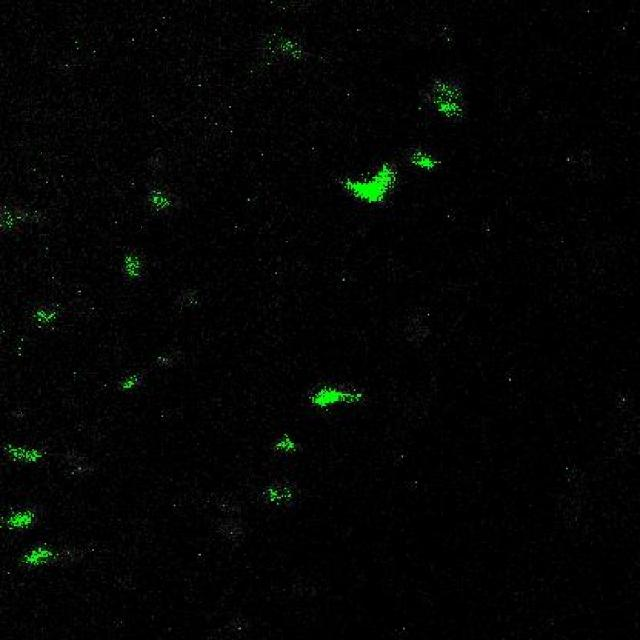Cell: (346, 174, 396, 206), (315, 389, 361, 406), (8, 513, 32, 529)
